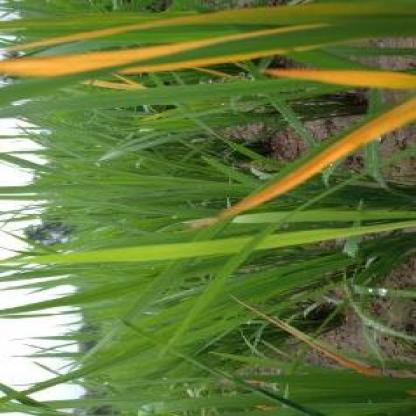Tungro: (232, 93, 416, 218), (1, 25, 354, 77), (258, 67, 416, 98)
